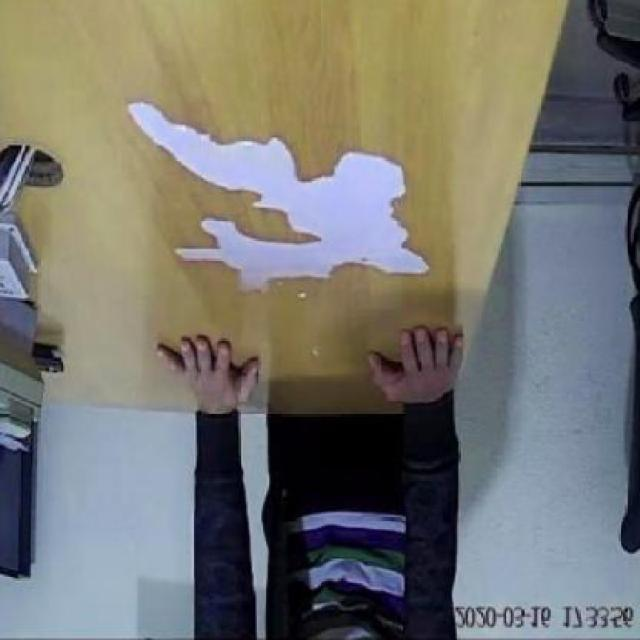spillage: (128, 102, 430, 292)
